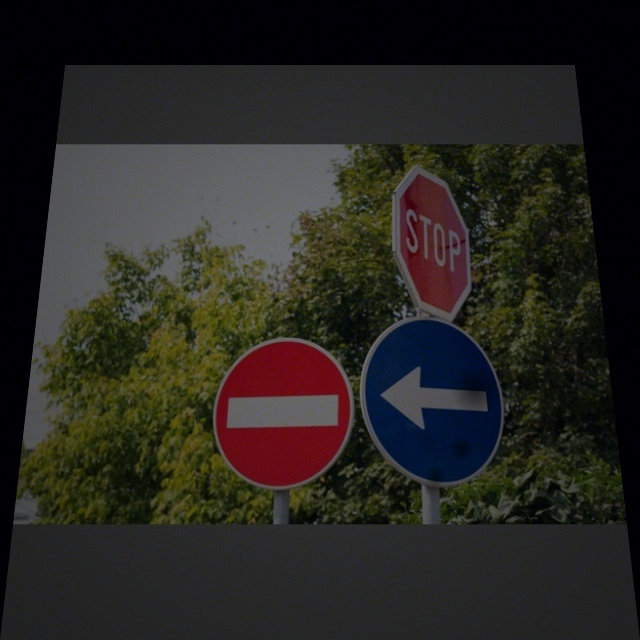Compulsory_Turn_Left: (360, 312, 511, 489)
